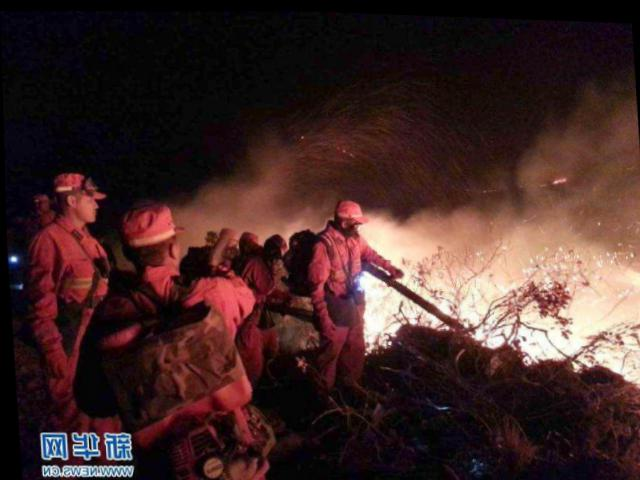fire: (356, 219, 639, 390)
